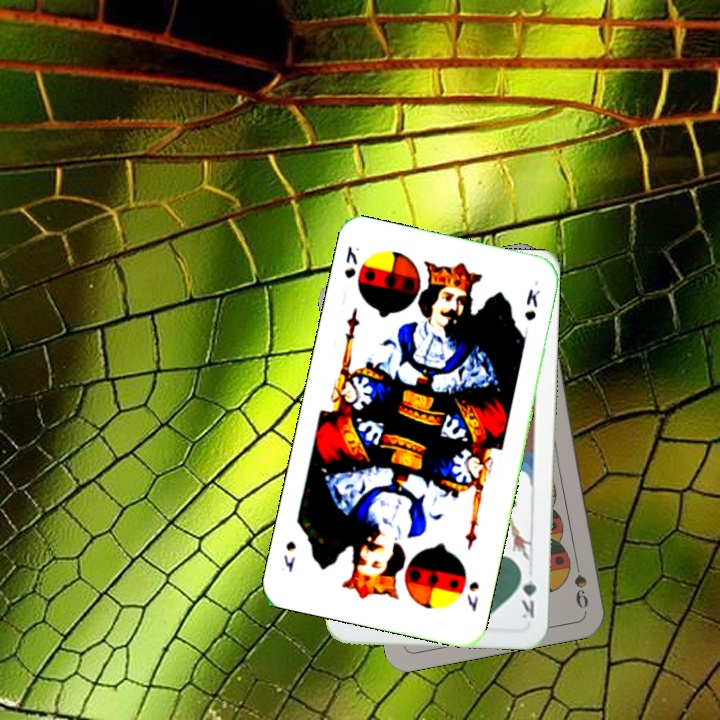GK: (517, 564, 540, 621)
S9: (570, 553, 591, 612)
SK: (340, 241, 362, 281), (463, 577, 482, 614)
